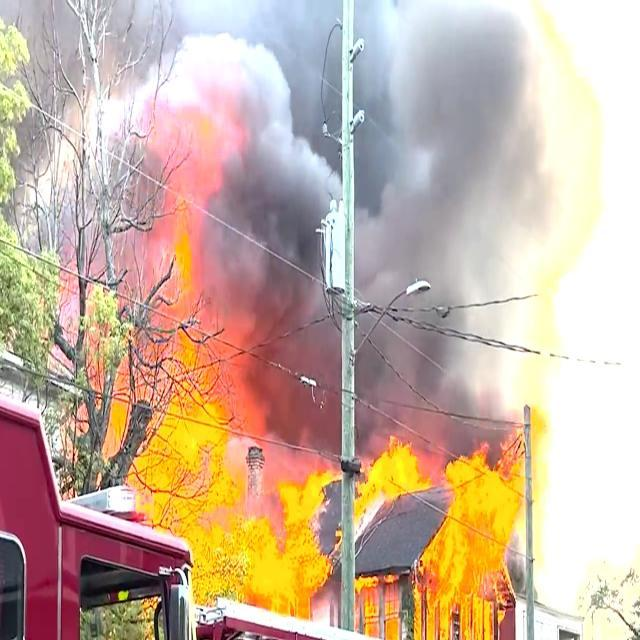Fire: (157, 400, 320, 620), (462, 434, 516, 632), (367, 426, 444, 510), (428, 549, 449, 621)
Smoke: (100, 29, 554, 379)
